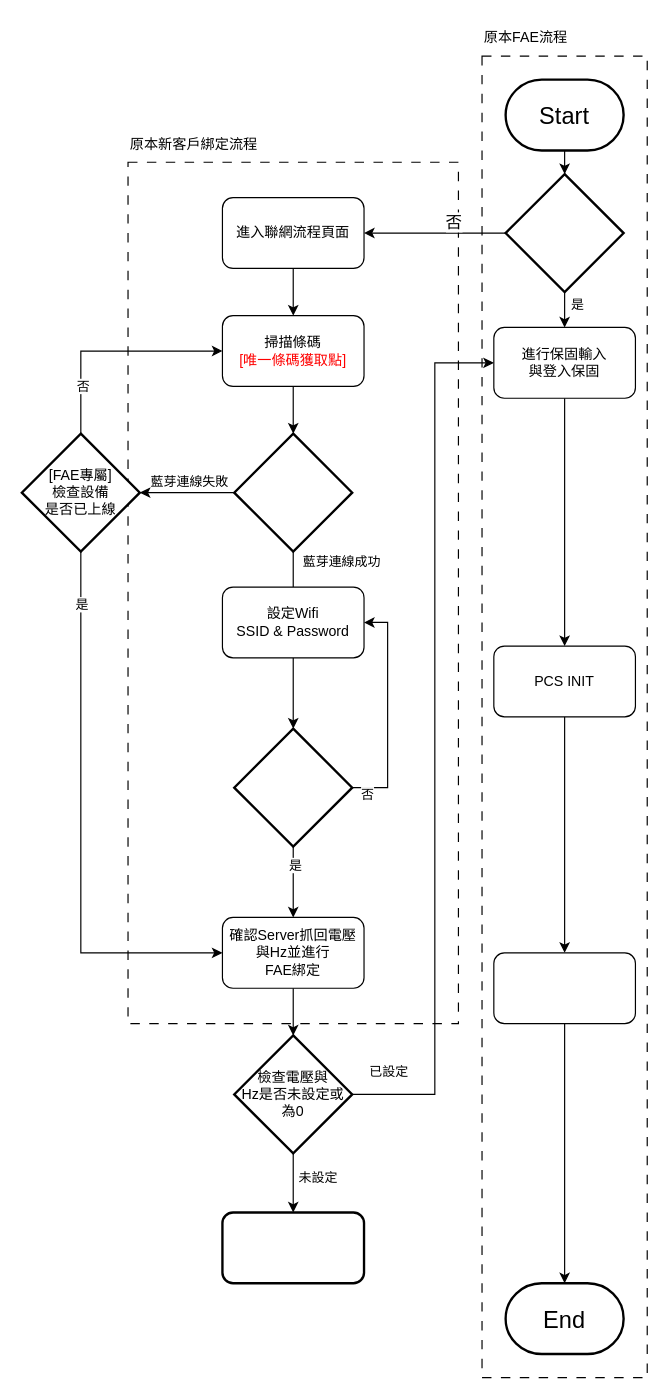
This 668x1398 diagram has some shape labels left out. Each missing label, with the box of its shape:
Wifi設定 是否成功: (232, 727, 353, 847)
安'裝確認: (493, 952, 635, 1024)
是否有過 連網動作: (504, 172, 624, 293)
藍芽成功: (232, 432, 353, 552)
鎖死畫面 並提示確認出貨: (221, 1211, 365, 1284)
